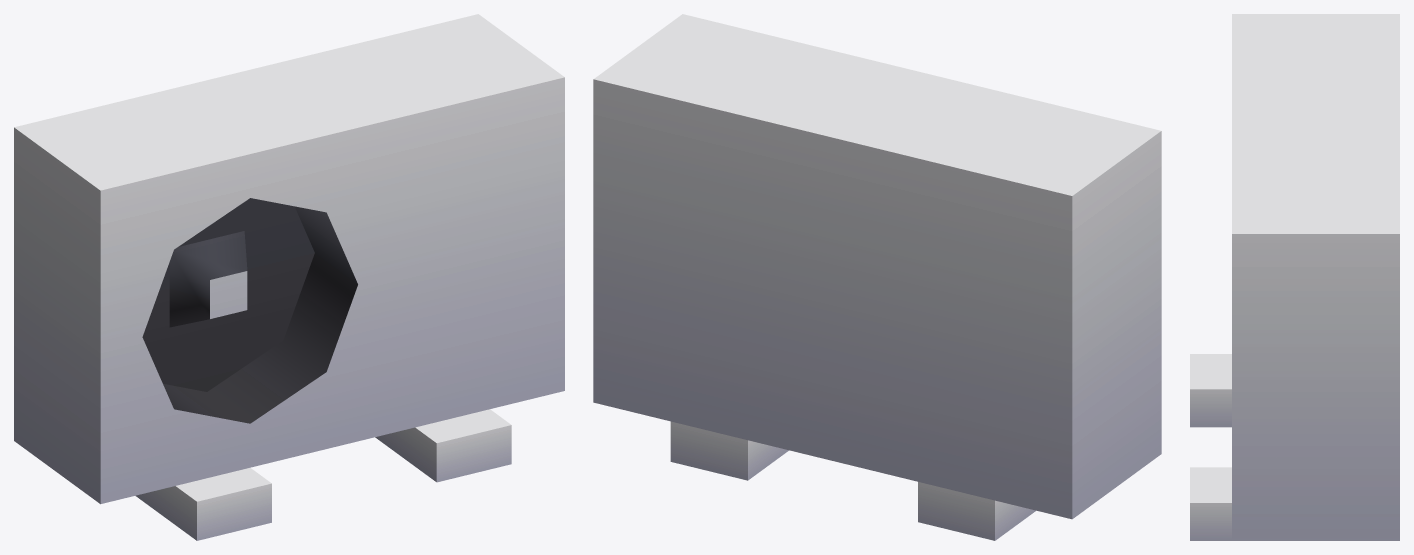
Rendered from kenney-modular-buildings-detail-ac-b.glb.
3 renders of one model, left to right at view 1: azimuth 30°, elevation 25°; view 2: azimuth 150°, elevation 25°; view 3: azimuth 270°, elevation 25°, orthographic. The views are drawn at different scales.
Visible parts, largest first — view 1: detail-ac-b; view 2: detail-ac-b; view 3: detail-ac-b.
Part boxes in pixels (x1,y1,x2,y2): detail-ac-b: [14, 14, 564, 540]; detail-ac-b: [593, 14, 1161, 540]; detail-ac-b: [1190, 14, 1399, 540].
Bounding box in the file's own units: 0.31 × 0.225 × 0.125.
1 material, 1 textured.
